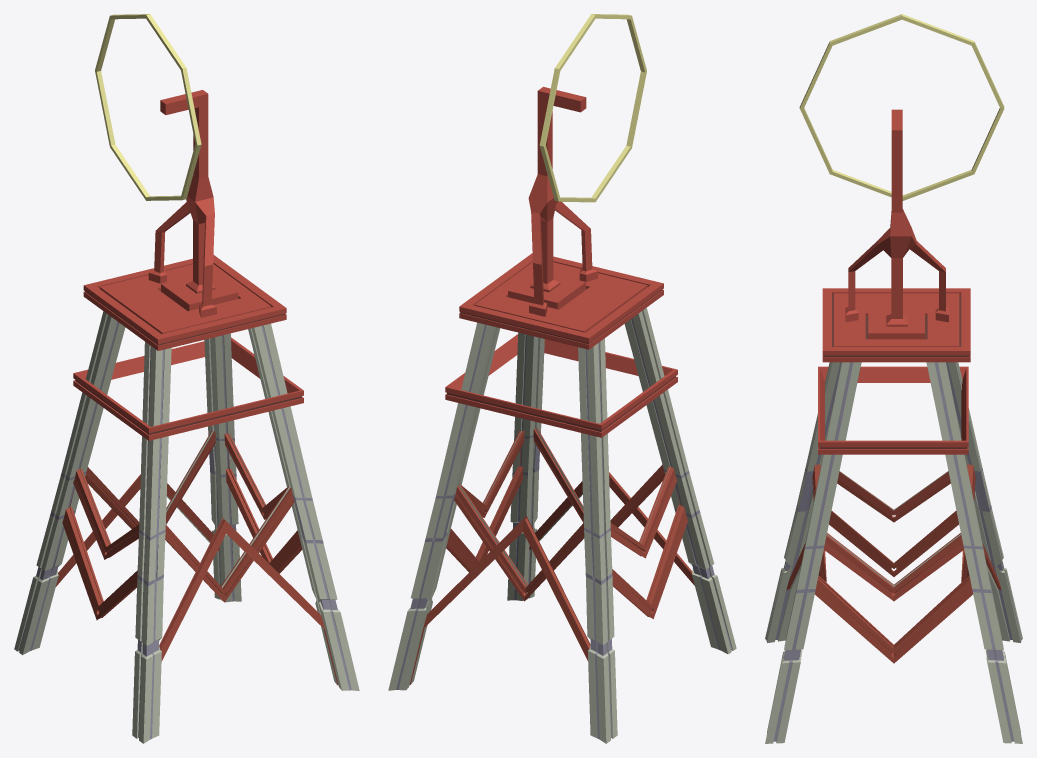
File: Windmill 1.fbx
The picture shows the model from 3 angles, left to right: view 1: azimuth 30°, elevation 25°; view 2: azimuth 150°, elevation 25°; view 3: azimuth 270°, elevation 25°; orthographic projection.
Parts seen in each view (by area): view 1: Windmill 1; view 2: Windmill 1; view 3: Windmill 1.
Boxes of the visible parts, box(x1,y1,x2,y2) form: Windmill 1: box(14, 14, 359, 743); Windmill 1: box(388, 14, 736, 743); Windmill 1: box(765, 14, 1022, 743).
Bounding box in the file's own units: 340 × 982 × 348.
